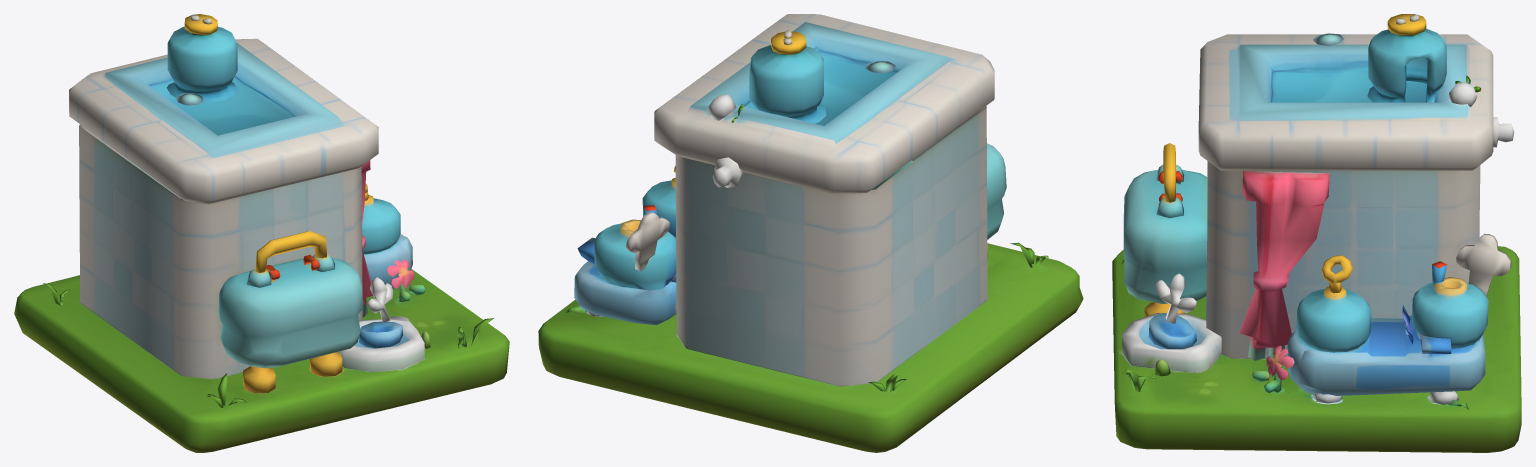
The model's file is duchas_3.glb.
3 renders of one model, left to right at view 1: azimuth 30°, elevation 25°; view 2: azimuth 150°, elevation 25°; view 3: azimuth 270°, elevation 25°, orthographic. The views are drawn at different scales.
Visible parts, largest first — view 1: tripo_node_93ca1a32-eee8-4be5-95c2-0081ca29544b; view 2: tripo_node_93ca1a32-eee8-4be5-95c2-0081ca29544b; view 3: tripo_node_93ca1a32-eee8-4be5-95c2-0081ca29544b.
Boxes of the visible parts, left/top/right/bottom form: tripo_node_93ca1a32-eee8-4be5-95c2-0081ca29544b: left=14, top=14, right=509, bottom=452; tripo_node_93ca1a32-eee8-4be5-95c2-0081ca29544b: left=538, top=14, right=1083, bottom=452; tripo_node_93ca1a32-eee8-4be5-95c2-0081ca29544b: left=1112, top=14, right=1521, bottom=452.
Bounding box in the file's own units: 0.998 × 0.916 × 0.9902.
Materials: 1 (1 with a texture image).
